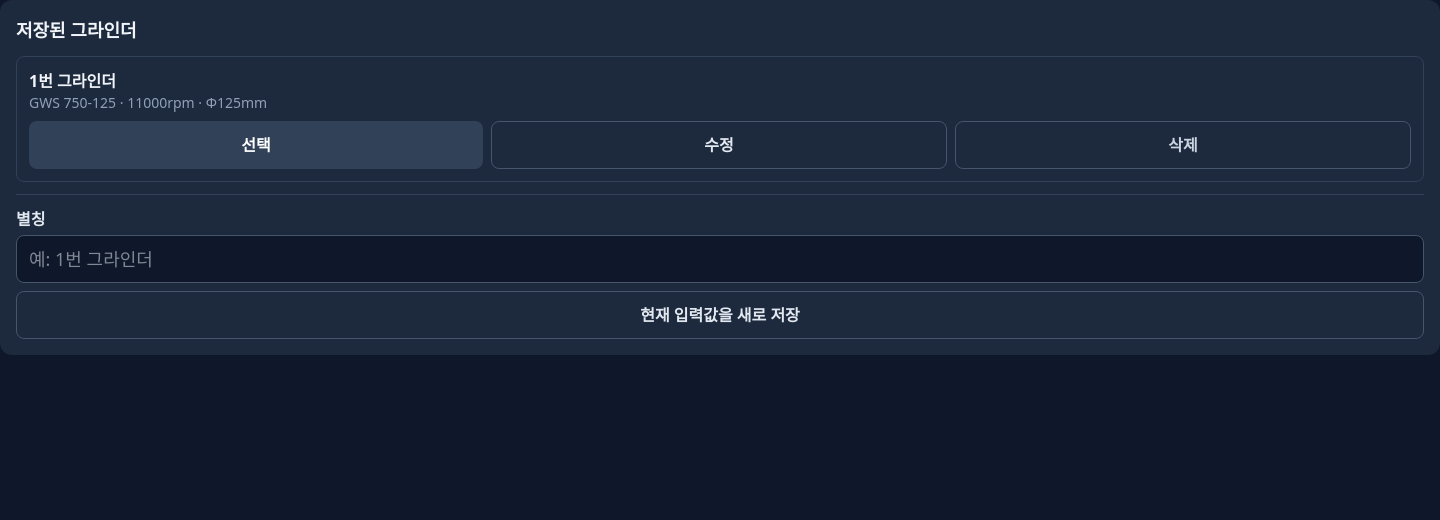
저장된 그라인더 목록 — 수정·삭제는 한 번 더 확인한다 › 삭제 실패는 확인창을 유지하고 재시도할 수 있다
The width and height of the screenshot is (1440, 520).
Step 1. Click the button "삭제" → (1183, 145), box [955, 121, 1411, 169]
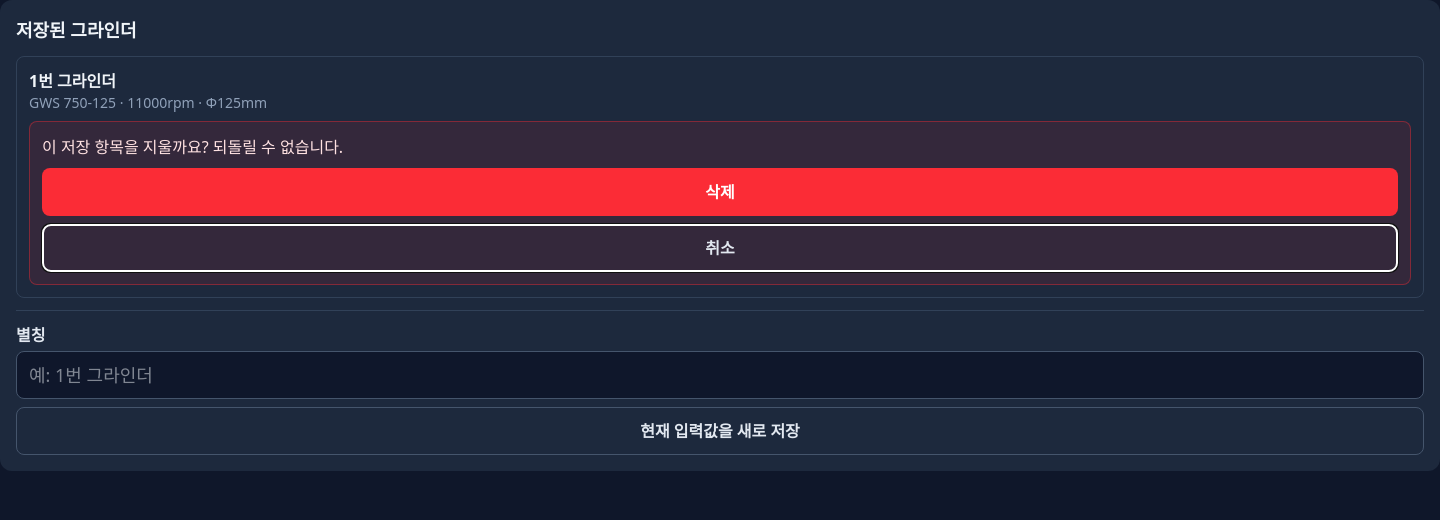
Step 2. Click the button "삭제" → (720, 192), box [42, 168, 1398, 216]
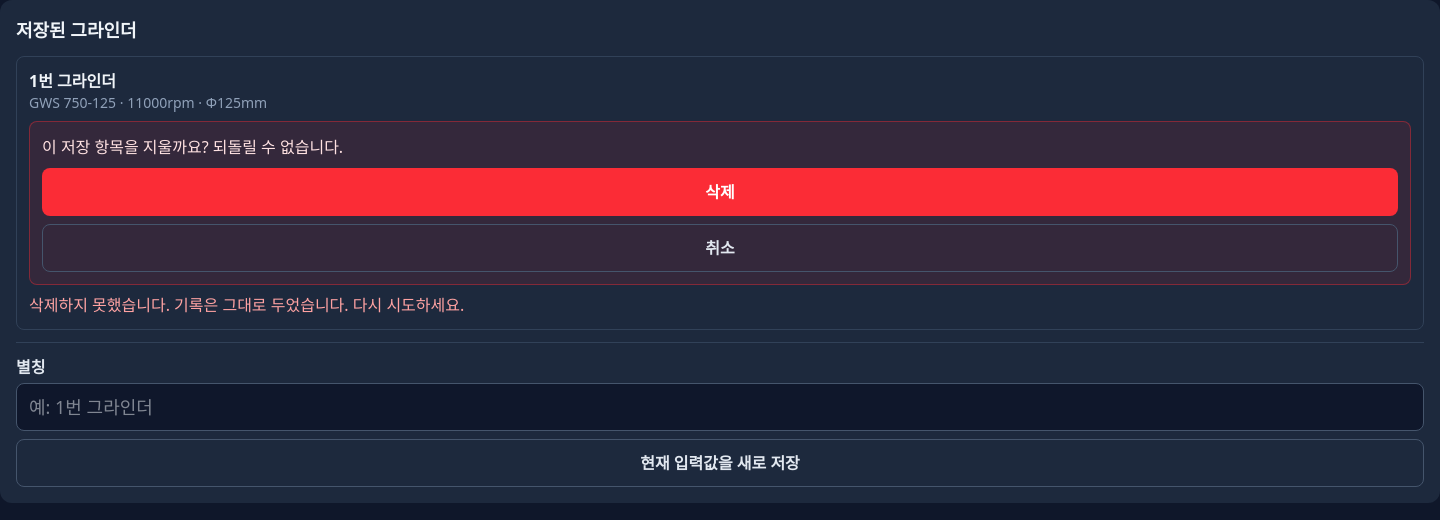
Result: the text "이 저장 항목을 지울까요? 되돌릴 수 없습니다." is shown at [42, 136, 343, 158]
Result: the message shows "삭제하지 못했습니다" at [29, 294, 464, 316]
Step 3. Click the button "삭제" → (720, 192), box [42, 168, 1398, 216]
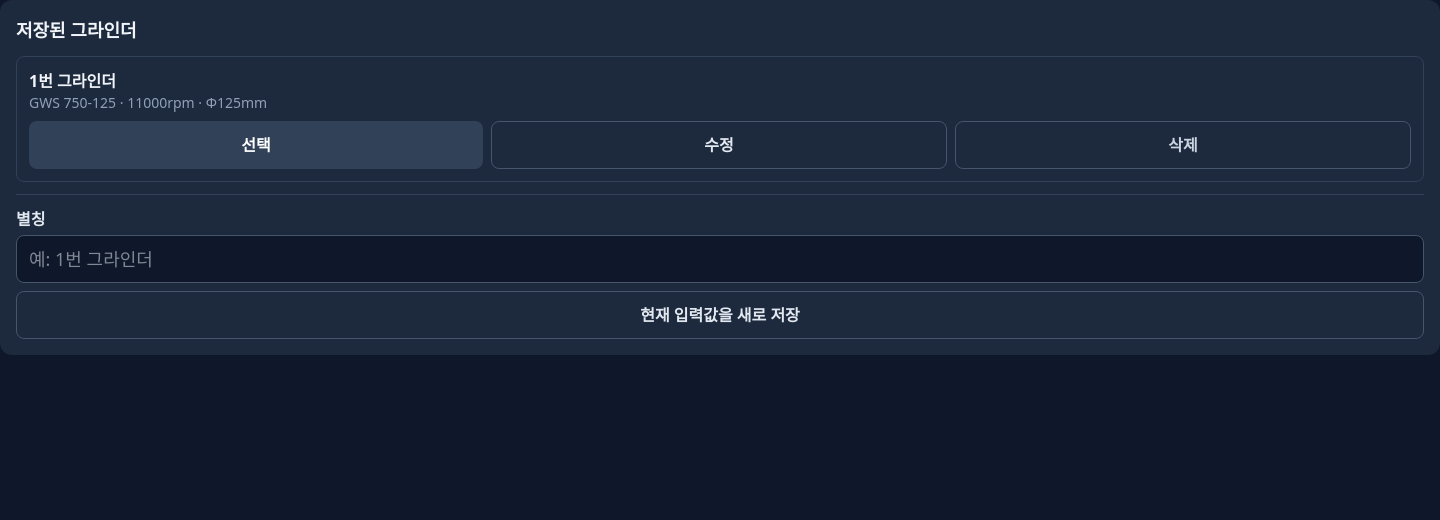
Result: the text "되돌릴 수 없습니다" is gone
